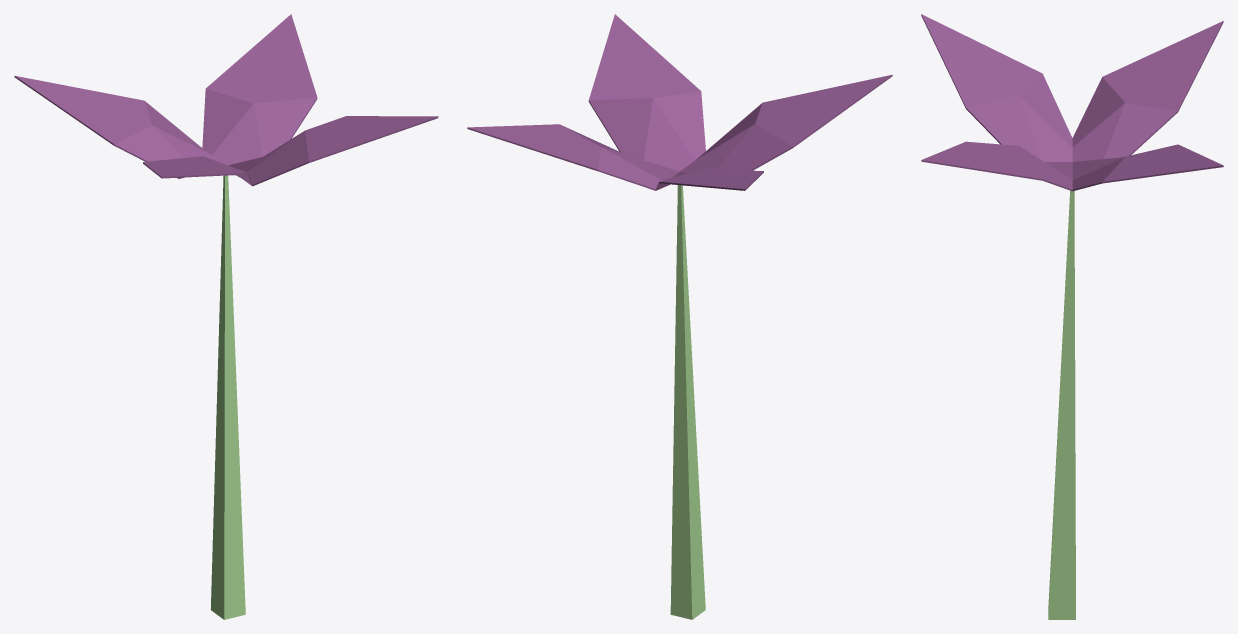
Rendered from kawiat_złączony.fbx.
3 views of the same model, side by side, from view 1: azimuth 30°, elevation 25°; view 2: azimuth 150°, elevation 25°; view 3: azimuth 270°, elevation 25° (orthographic). The views are drawn at different scales.
Visible parts, largest first — view 1: Łodyga; view 2: Łodyga; view 3: Łodyga.
Part boxes in pixels (x1,y1,x2,y2): Łodyga: (14, 14, 438, 619); Łodyga: (467, 14, 892, 619); Łodyga: (921, 14, 1223, 619).
Size of the model in its own units: 17.91 by 32.08 by 16.5.
